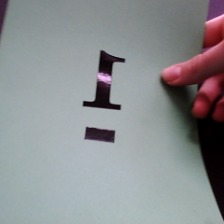green1: (73, 39, 137, 156)
